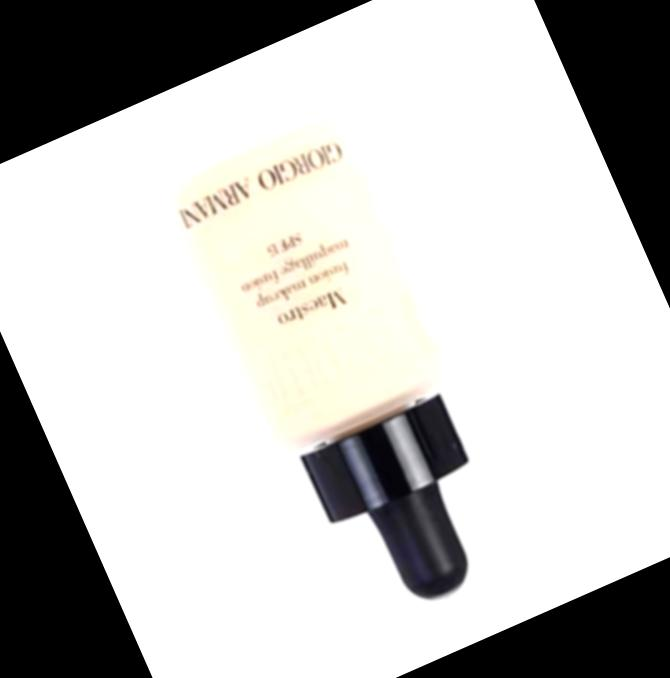cosmetic: (129, 70, 558, 645)
